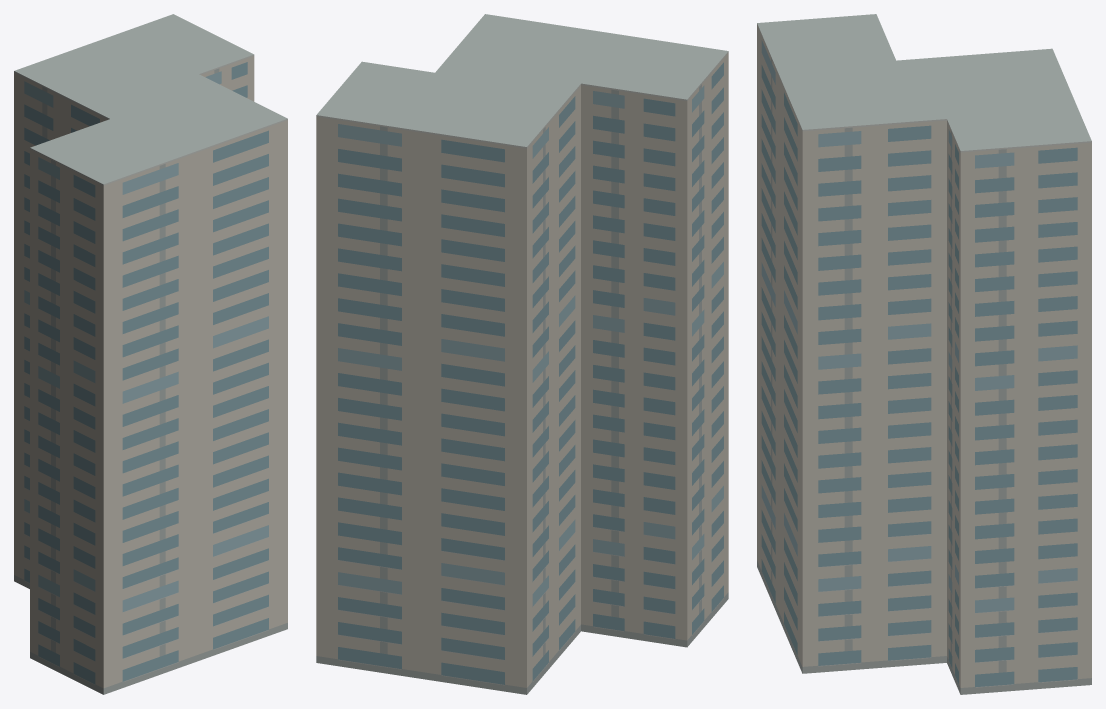
The model's file is residential-0274eba8-f53f-44e5-84ef-6776265d06ad.glb.
3 views of the same model, side by side, from view 1: azimuth 30°, elevation 25°; view 2: azimuth 150°, elevation 25°; view 3: azimuth 270°, elevation 25° (orthographic). The views are drawn at different scales.
Visible parts, largest first — view 1: residential-0274eba8-f53f-44e5-84ef-6776265d06ad.tmp; view 2: residential-0274eba8-f53f-44e5-84ef-6776265d06ad.tmp; view 3: residential-0274eba8-f53f-44e5-84ef-6776265d06ad.tmp.
Part boxes in pixels (<box>): residential-0274eba8-f53f-44e5-84ef-6776265d06ad.tmp: <box>14,14,287,694</box>; residential-0274eba8-f53f-44e5-84ef-6776265d06ad.tmp: <box>316,14,728,694</box>; residential-0274eba8-f53f-44e5-84ef-6776265d06ad.tmp: <box>757,14,1091,694</box>.
Size of the model in its own units: 47.58 by 88 by 49.11.
